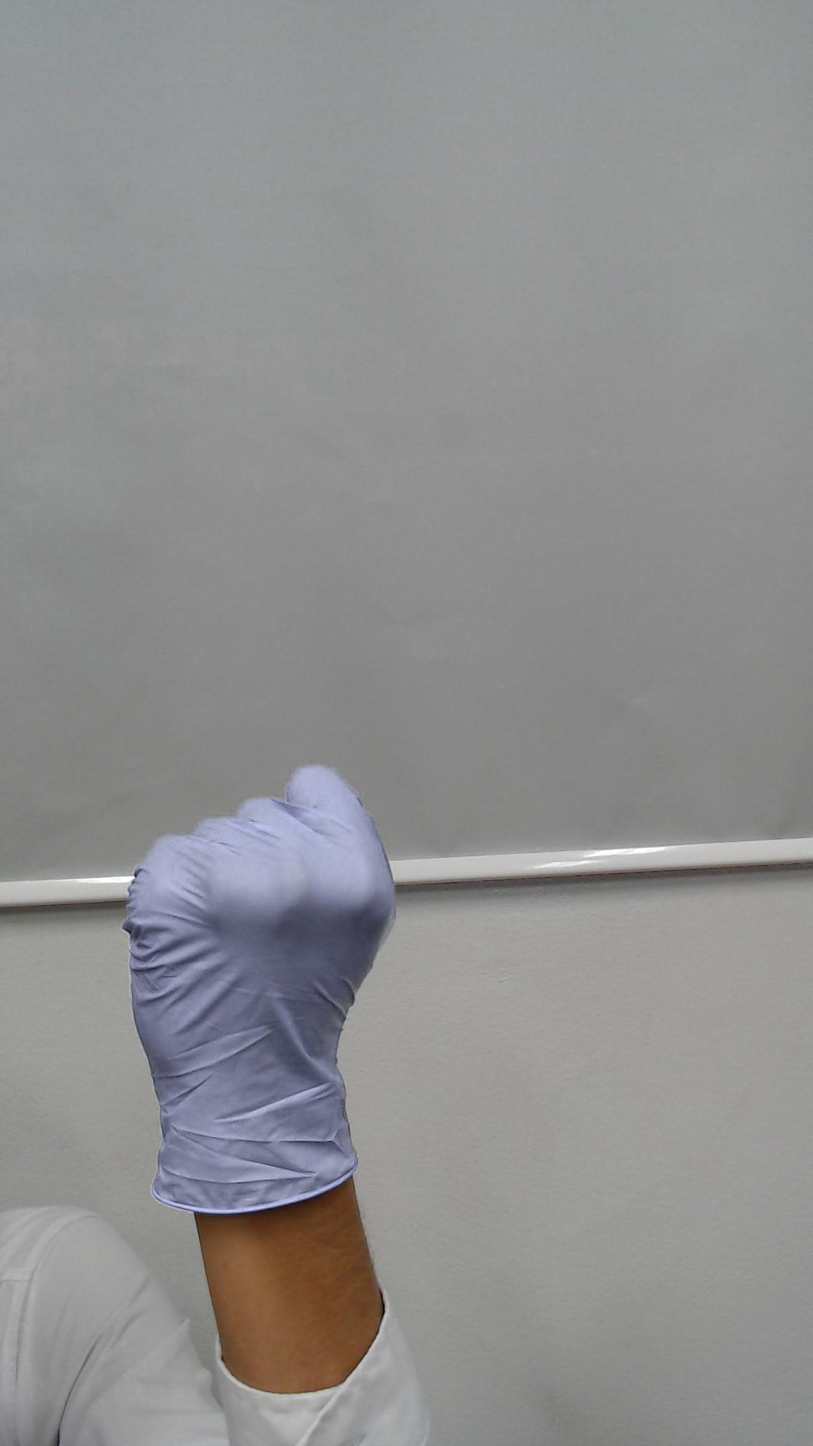gloves: (88, 715, 437, 1145)
